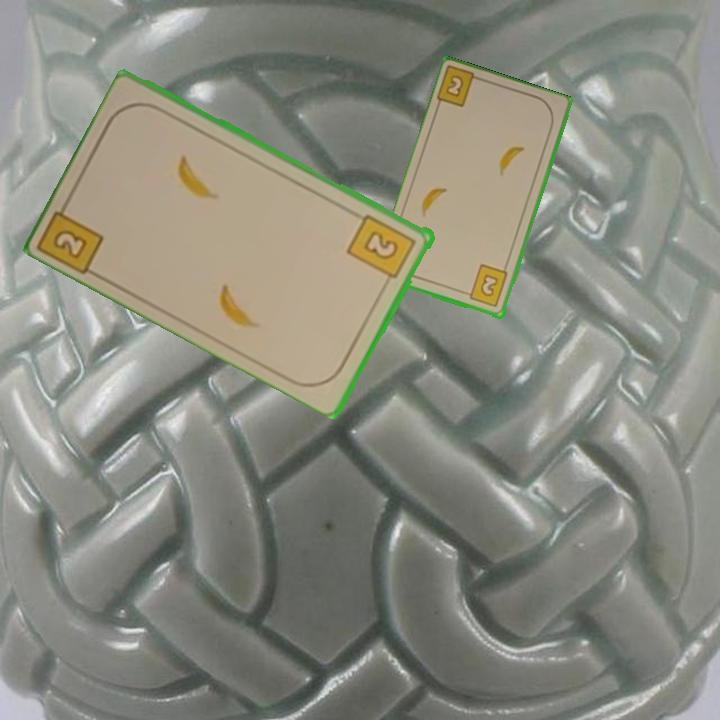2b: (344, 210, 419, 289), (37, 193, 108, 276), (434, 64, 488, 111), (461, 261, 511, 310)
